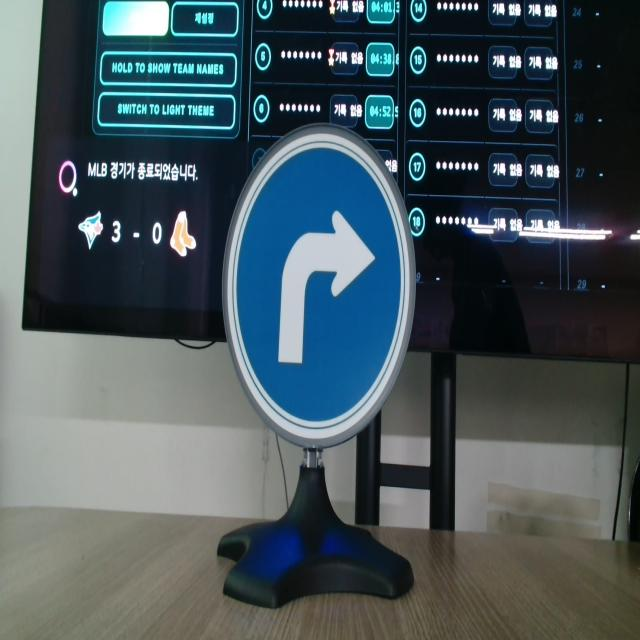right_dierection: (223, 109, 449, 478)
